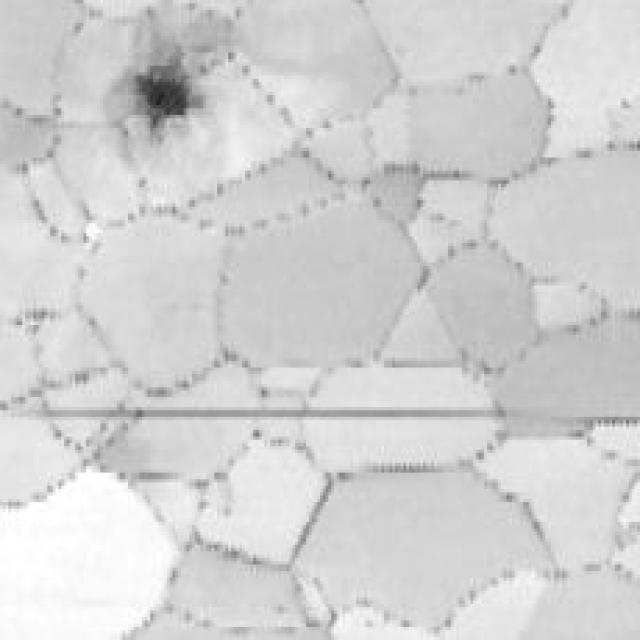good_void: (129, 36, 206, 138)
